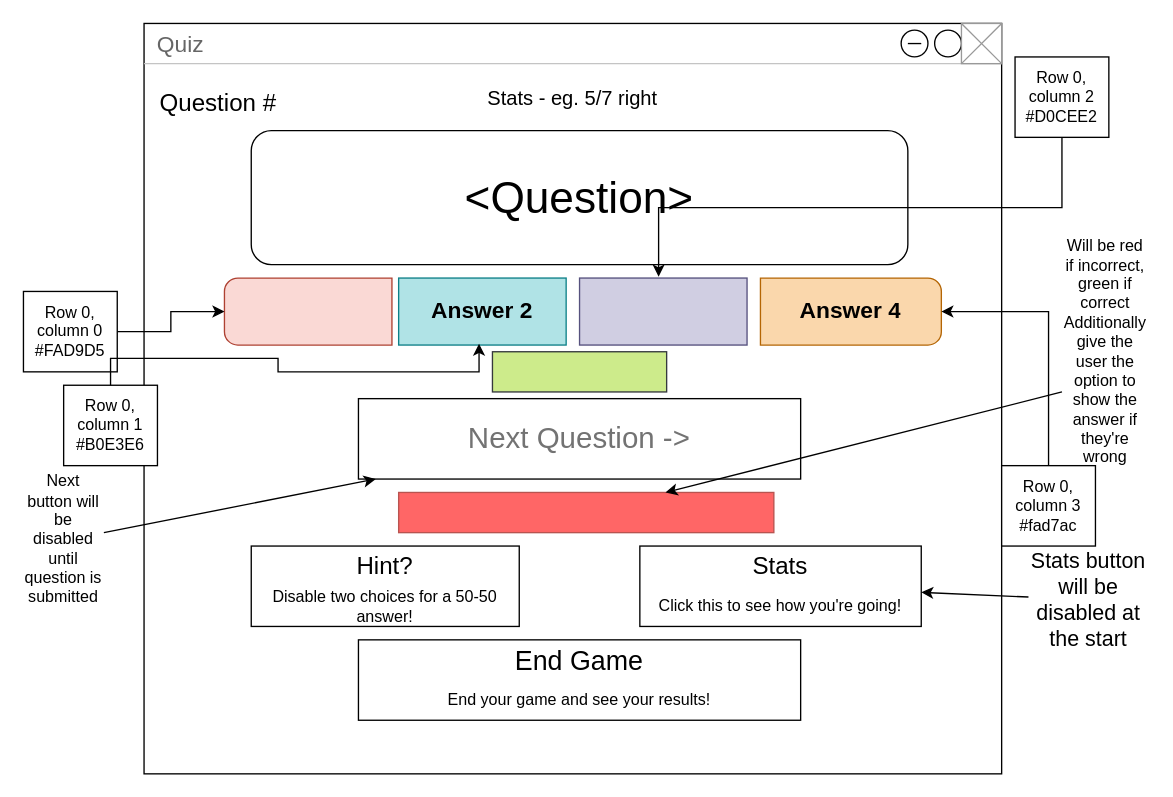
Image size: 1173x797. Some labels were removed from this diagram. Here are the shapes that lost their labels. From the top down, the centre of each, then its label:
At point 307,311: "Answer 1".
At point 662,311: "Answer 3".
At point 579,371: "Submit".
At point 585,512: "Correct/Incorrect".
